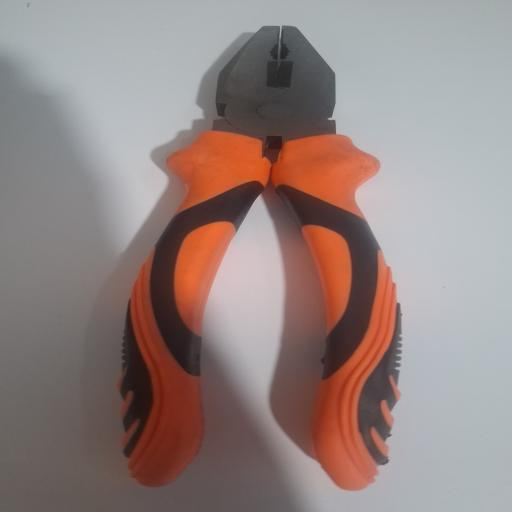alicate: (112, 25, 409, 493)
